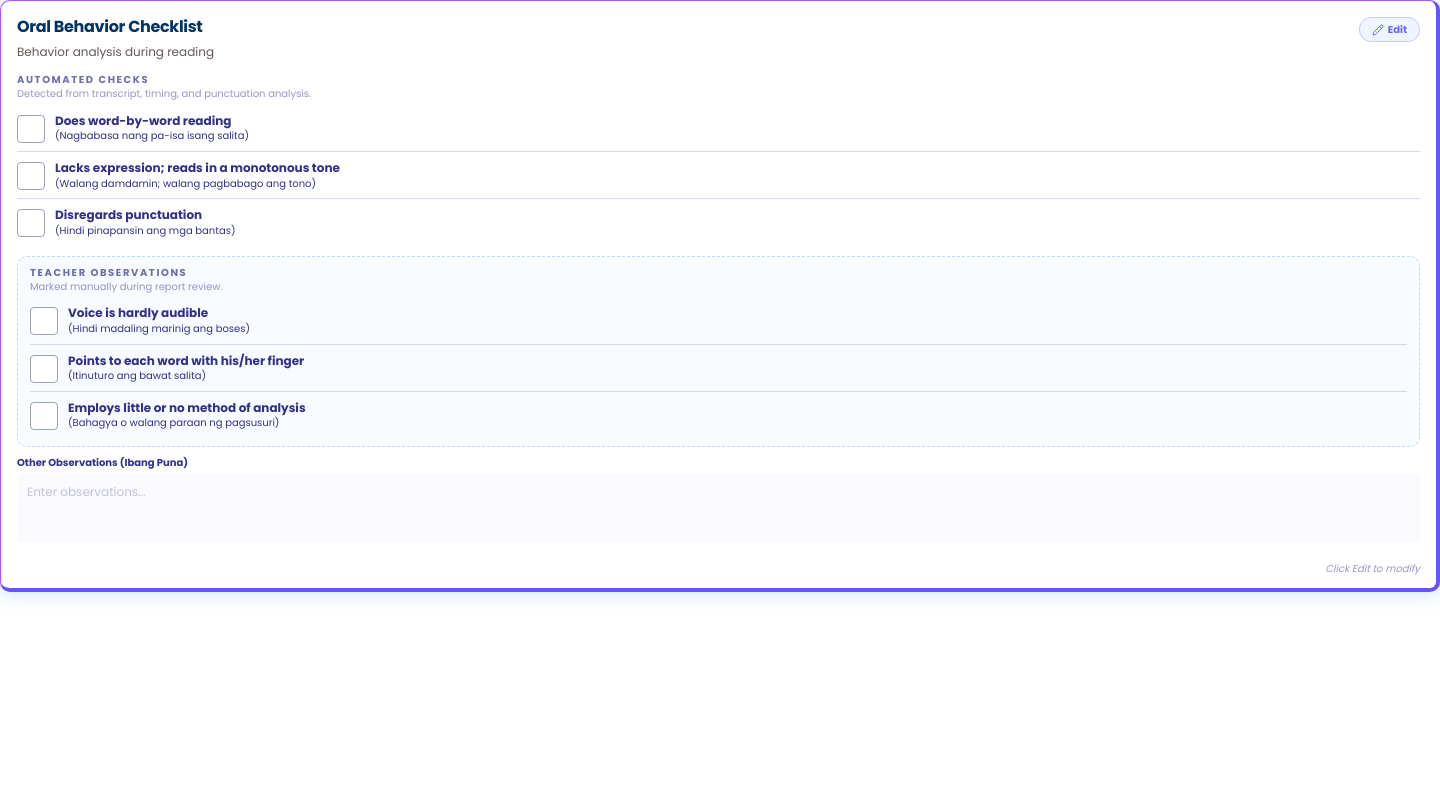
it: BehaviorChecklist › keeps edit mode open when saving fails
Click the button "Edit": (1389,30) 1359,17 -> 1420,42
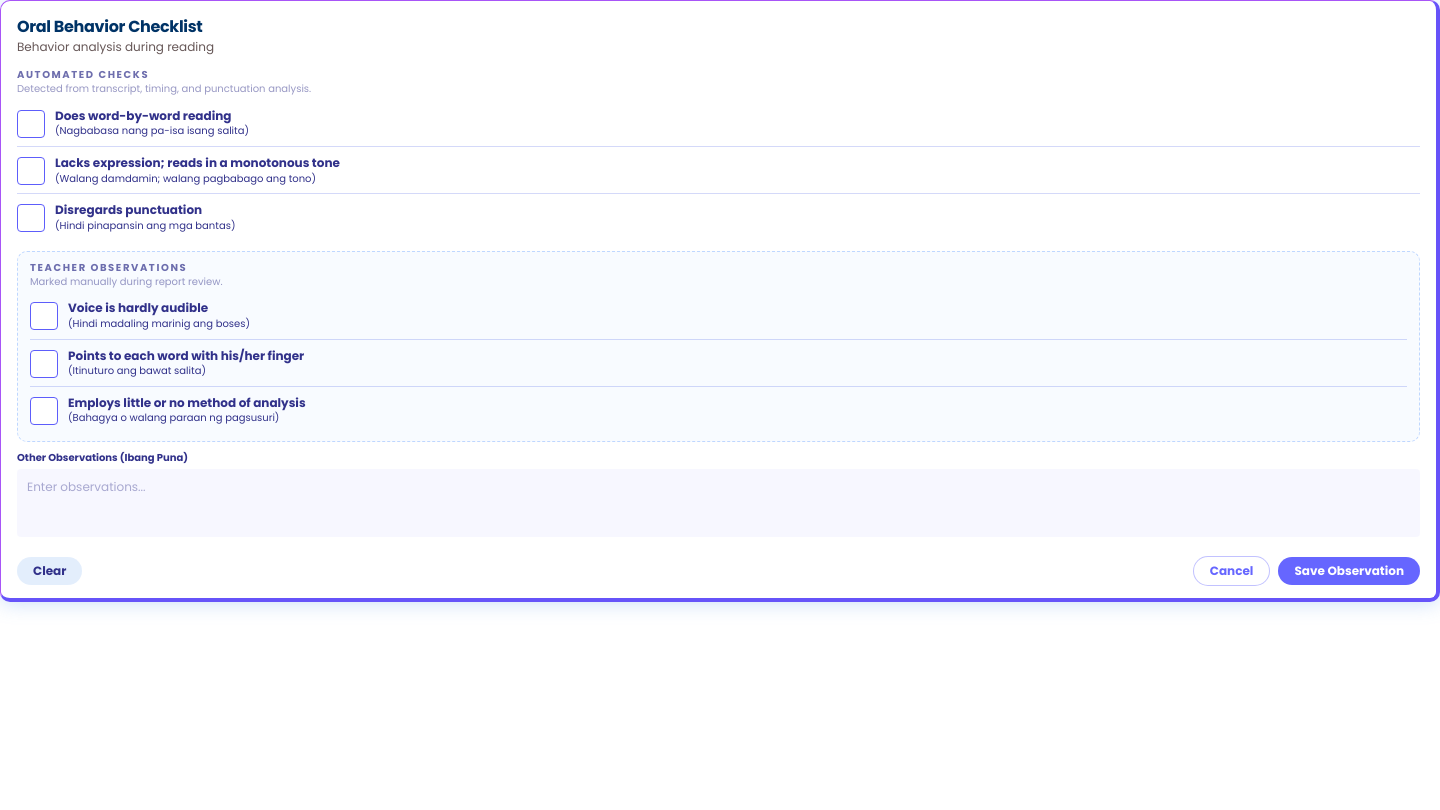
Click the button "Voice is hardly audible (Hindi madaling marinig ang boses)": (138,308) 30,292 -> 1407,339
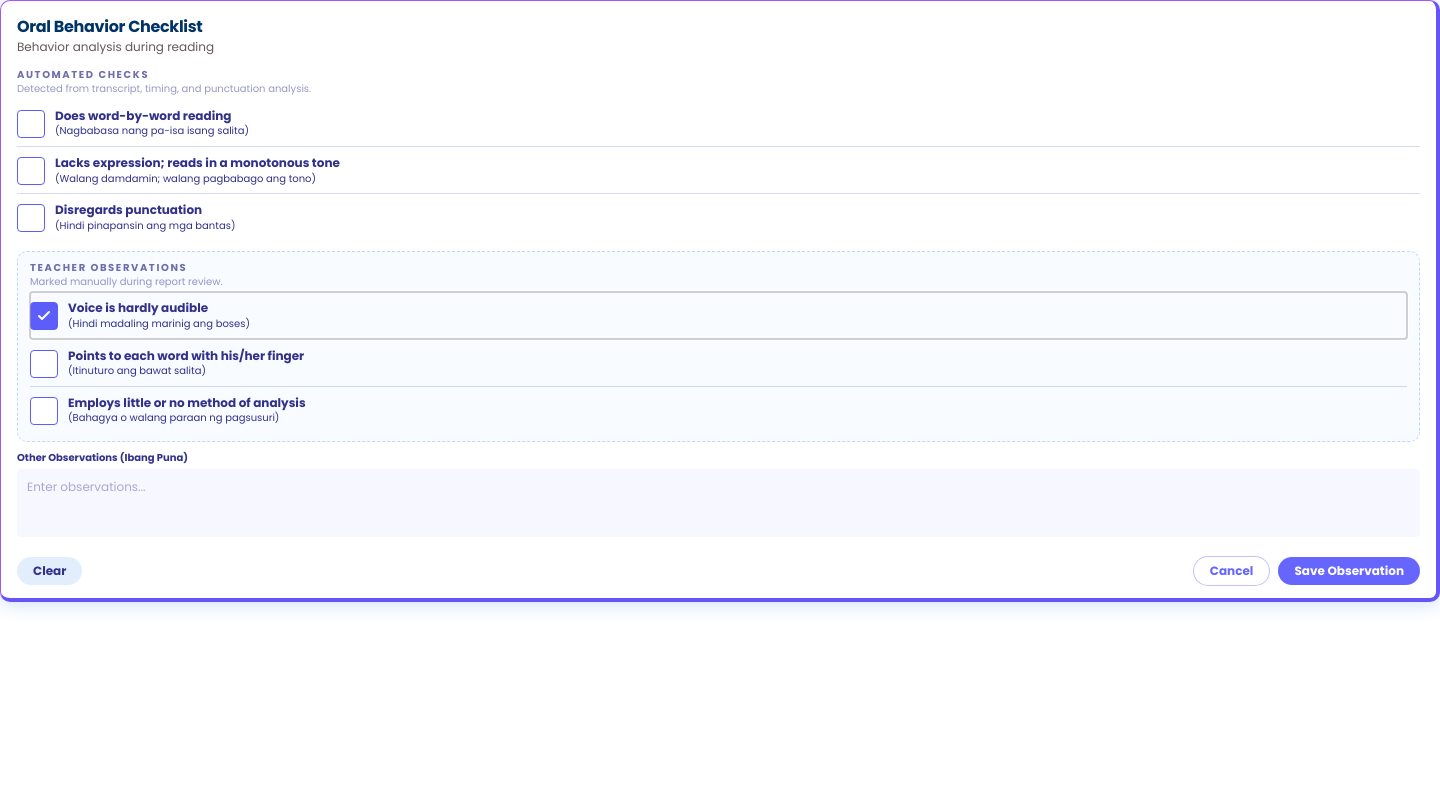
Click the button "Save Observation": (1349,571) 1278,557 -> 1420,585
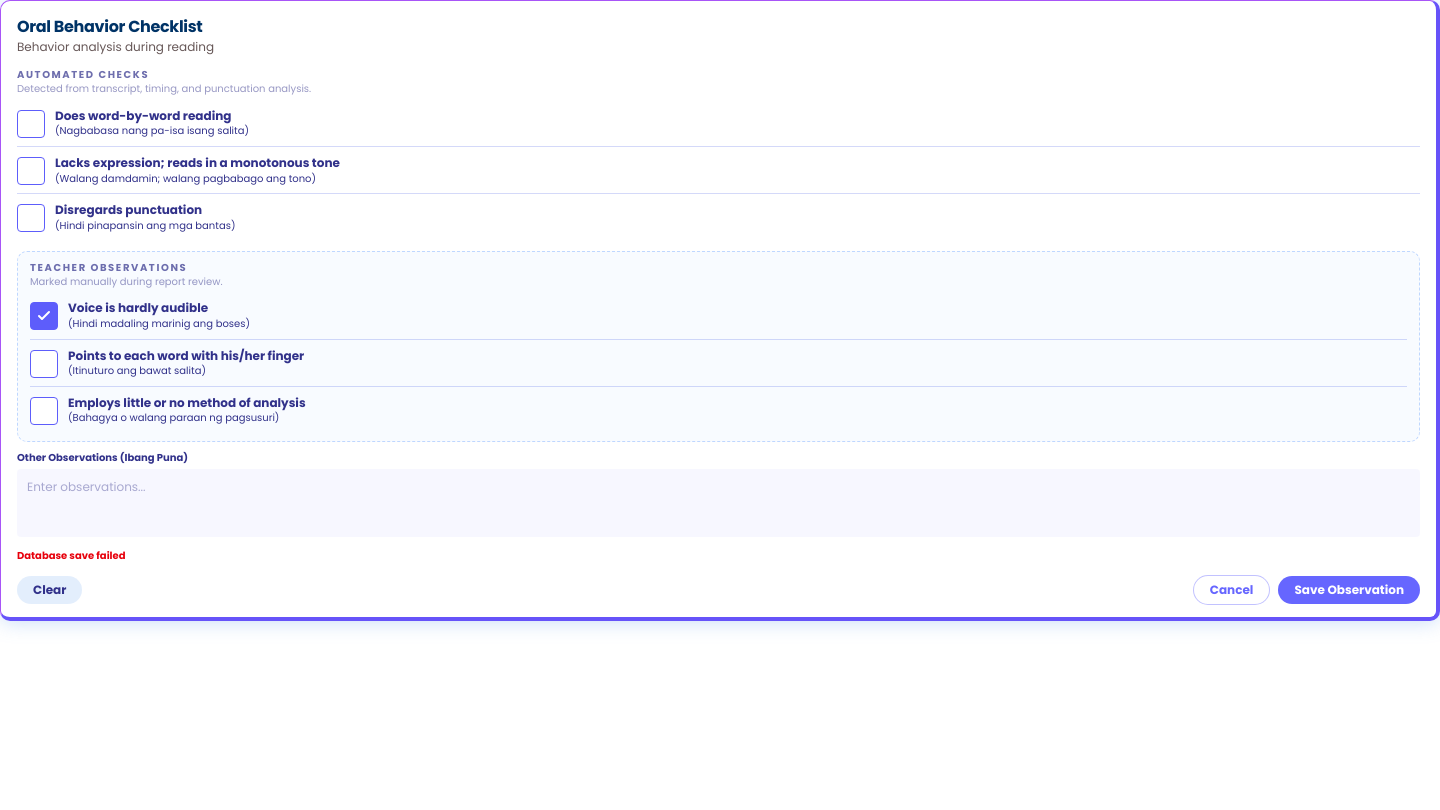
Check: the button "Save Observation" is shown, box 1278,576 -> 1420,604
Check: the message reads "Database save failed", box 17,548 -> 126,563
